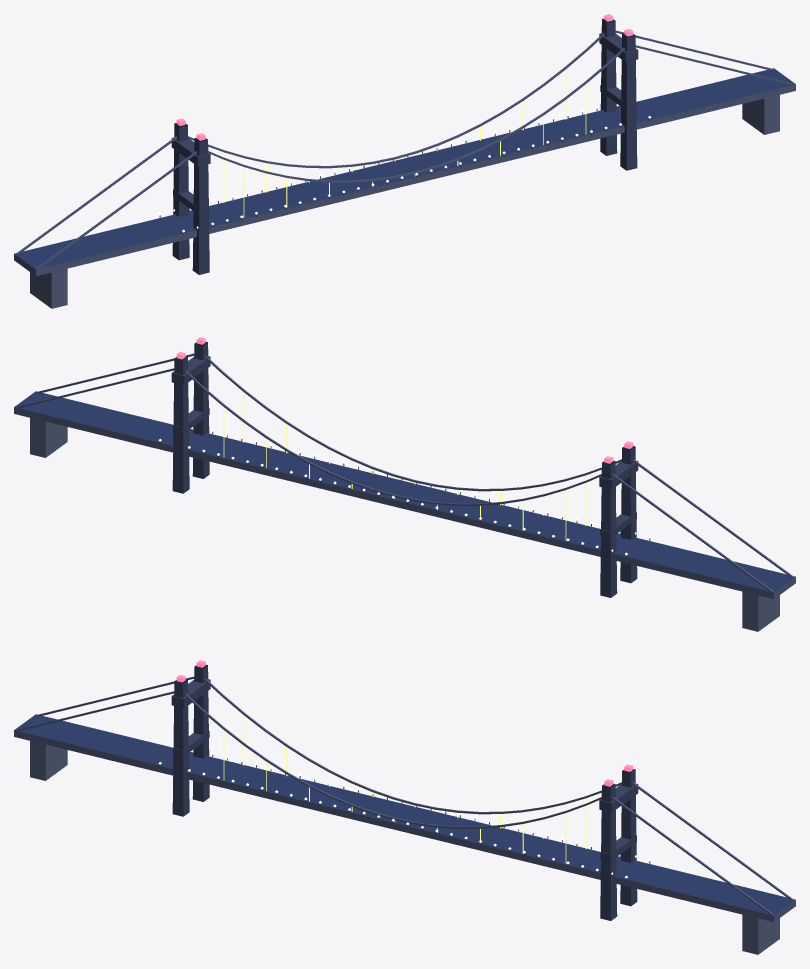
The model's file is W1_Mid_BridgeLit.fbx.
3 renders of one model, top to bottom at view 1: azimuth 30°, elevation 25°; view 2: azimuth 150°, elevation 25°; view 3: azimuth 330°, elevation 25°, orthographic.
Parts seen in each view (by area): view 1: W1_Mid_BridgeLit; view 2: W1_Mid_BridgeLit; view 3: W1_Mid_BridgeLit.
Boxes of the visible parts, bbox=[...] form: W1_Mid_BridgeLit: bbox=[14, 14, 795, 308]; W1_Mid_BridgeLit: bbox=[14, 337, 795, 631]; W1_Mid_BridgeLit: bbox=[14, 660, 795, 954].
Bounding box in the file's own units: 240 × 41.2 × 14.5.
